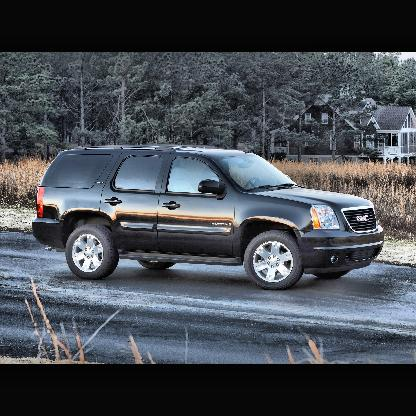GMC Yukon Hybrid SUV 2012: (33, 146, 387, 291)
